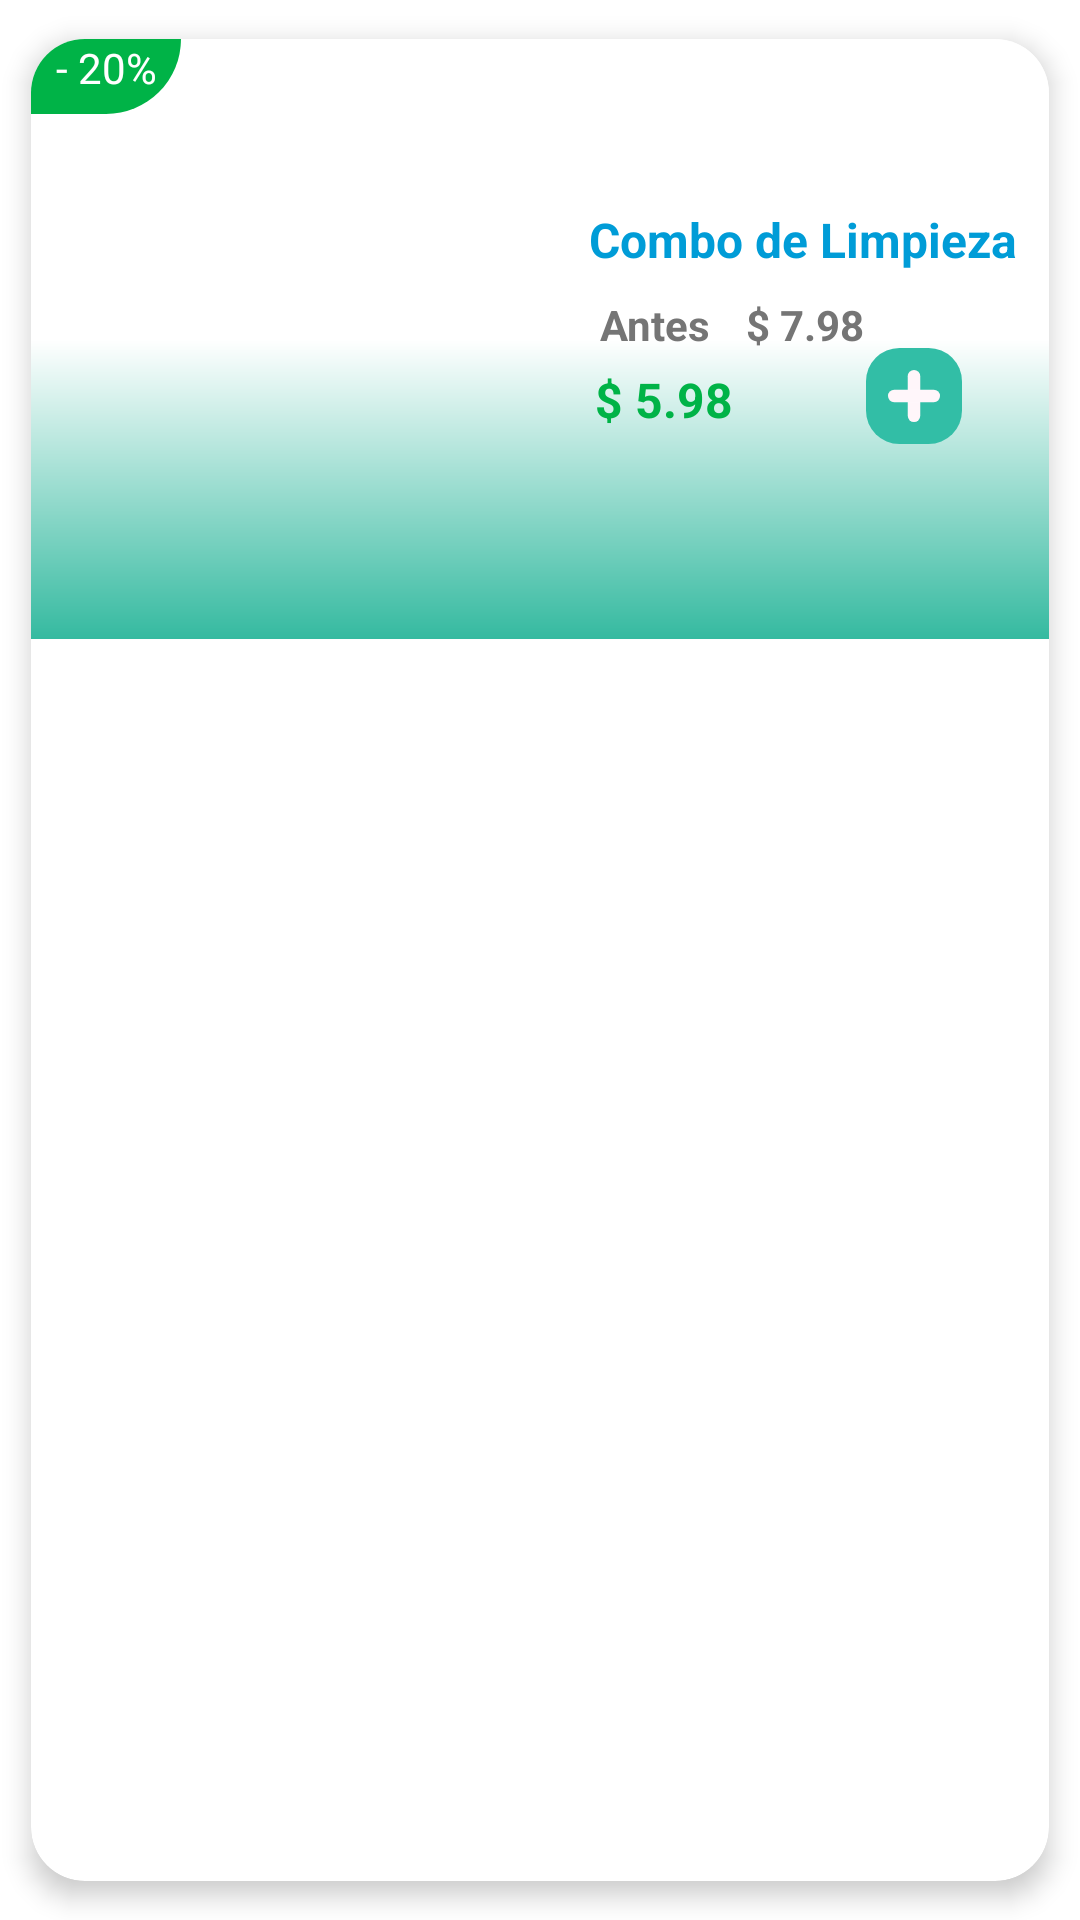

Icon click points for this 1080px x 1920px phone screenshot, format (x=x, y=y):
plus: (x=914, y=396)
